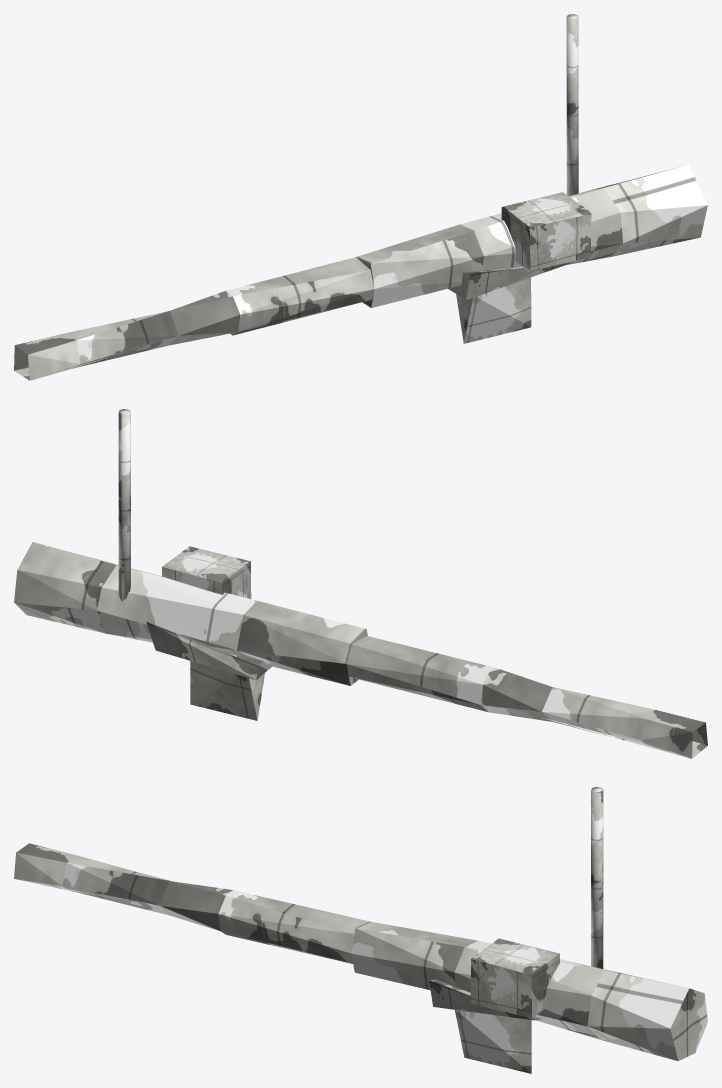
The model's file is light_tank_turret_lod.glb.
3 views of the same model, one above another, from view 1: azimuth 30°, elevation 25°; view 2: azimuth 150°, elevation 25°; view 3: azimuth 330°, elevation 25° (orthographic).
Visible parts, largest first — view 1: light_tank_turret_lod; view 2: light_tank_turret_lod; view 3: light_tank_turret_lod.
Boxes of the visible parts, bbox=[...] form: light_tank_turret_lod: bbox=[14, 14, 707, 380]; light_tank_turret_lod: bbox=[14, 409, 707, 758]; light_tank_turret_lod: bbox=[14, 787, 707, 1073].
Bounding box in the file's own units: 3 × 1.24 × 0.3984.
Materials: 1 (1 with a texture image).
